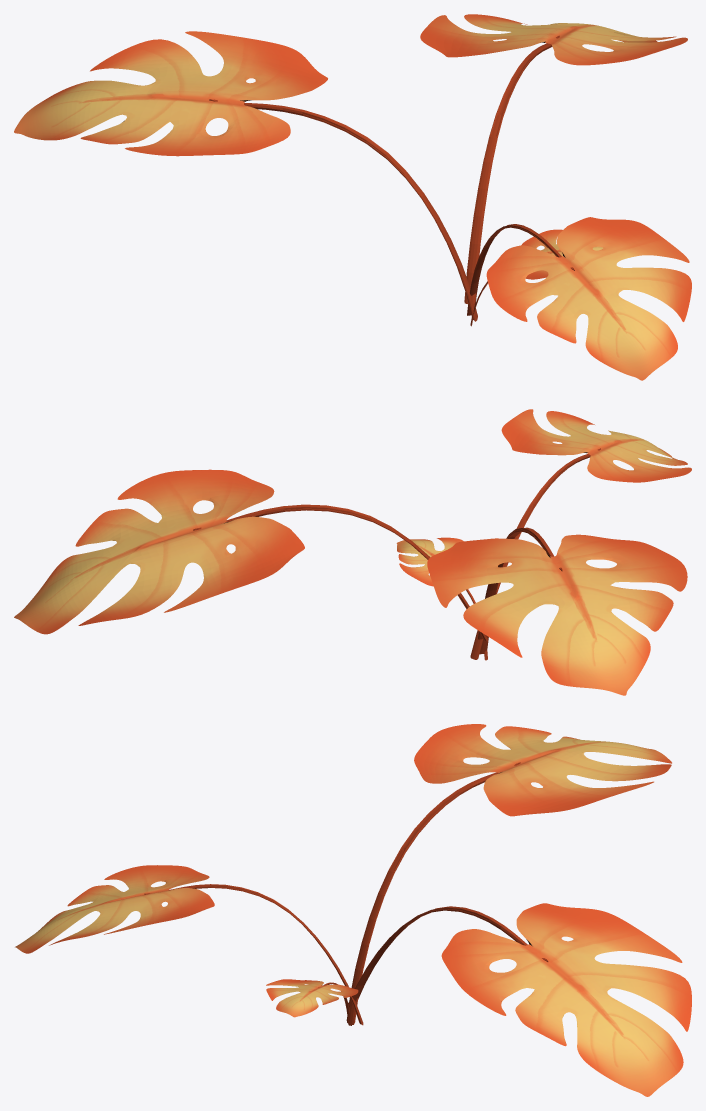
File: monsteraA.glb
The picture shows the model from 3 angles, top to bottom: view 1: azimuth 30°, elevation 25°; view 2: azimuth 150°, elevation 25°; view 3: azimuth 270°, elevation 25°; orthographic projection. The views are drawn at different scales.
Visible parts, largest first — view 1: monsteraA; view 2: monsteraA; view 3: monsteraA.
Part boxes in pixels (left/top/right/bottom): monsteraA: left=14, top=14, right=691, bottom=380; monsteraA: left=14, top=409, right=691, bottom=695; monsteraA: left=15, top=724, right=691, bottom=1096.
Bounding box in the file's own units: 10.85 × 3.41 × 10.97.
2 materials, 1 textured.
